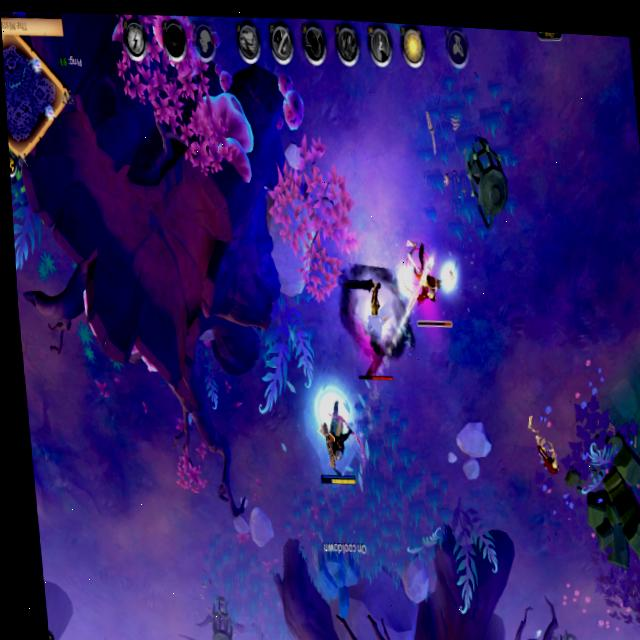ore: (339, 267, 407, 397), (398, 233, 460, 337), (518, 405, 565, 489)
red: (309, 394, 363, 495)
